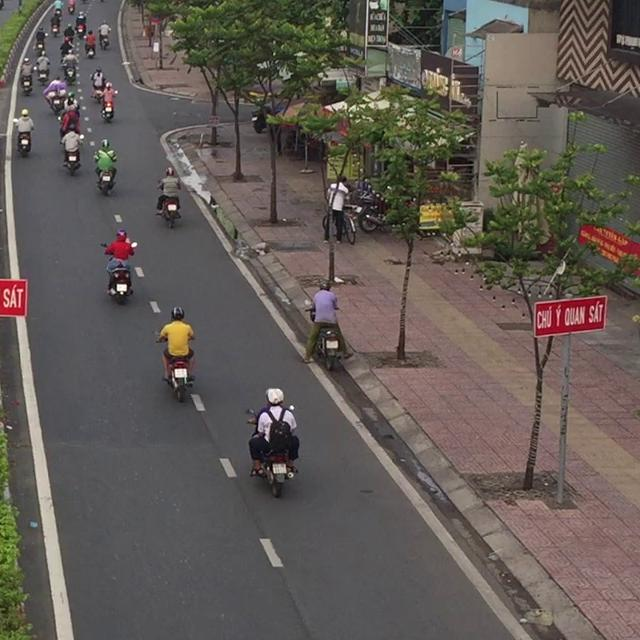Motorcycle: (245, 406, 298, 498), (152, 329, 195, 402), (100, 242, 136, 304), (155, 181, 181, 228), (314, 325, 341, 370), (60, 133, 84, 176), (93, 154, 117, 196), (12, 120, 33, 157), (99, 90, 118, 122), (34, 59, 50, 86), (61, 59, 78, 84), (20, 69, 34, 96), (48, 96, 66, 113), (98, 29, 110, 50), (33, 41, 47, 57), (93, 87, 106, 104), (74, 23, 85, 39), (87, 45, 96, 58), (51, 22, 59, 36), (67, 0, 75, 13)
